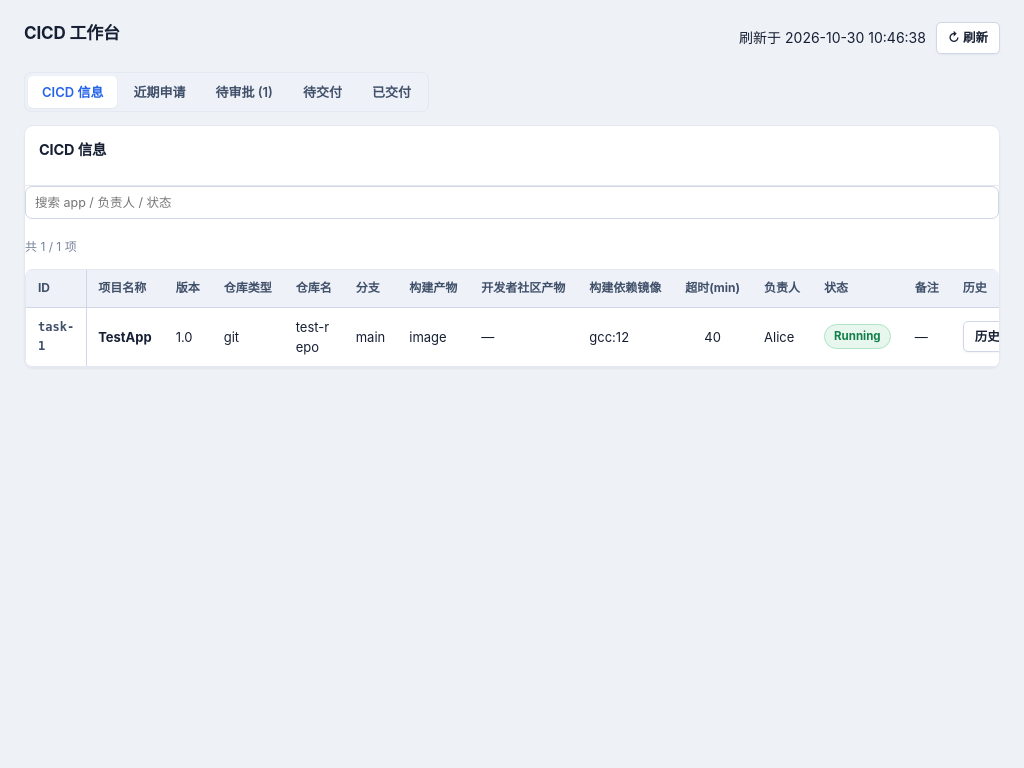
CicdPage › ApproveDialog: hides reject for release decision stop sync request
Click the button "待审批 (1)" at (244, 92), box [201,76,287,108]
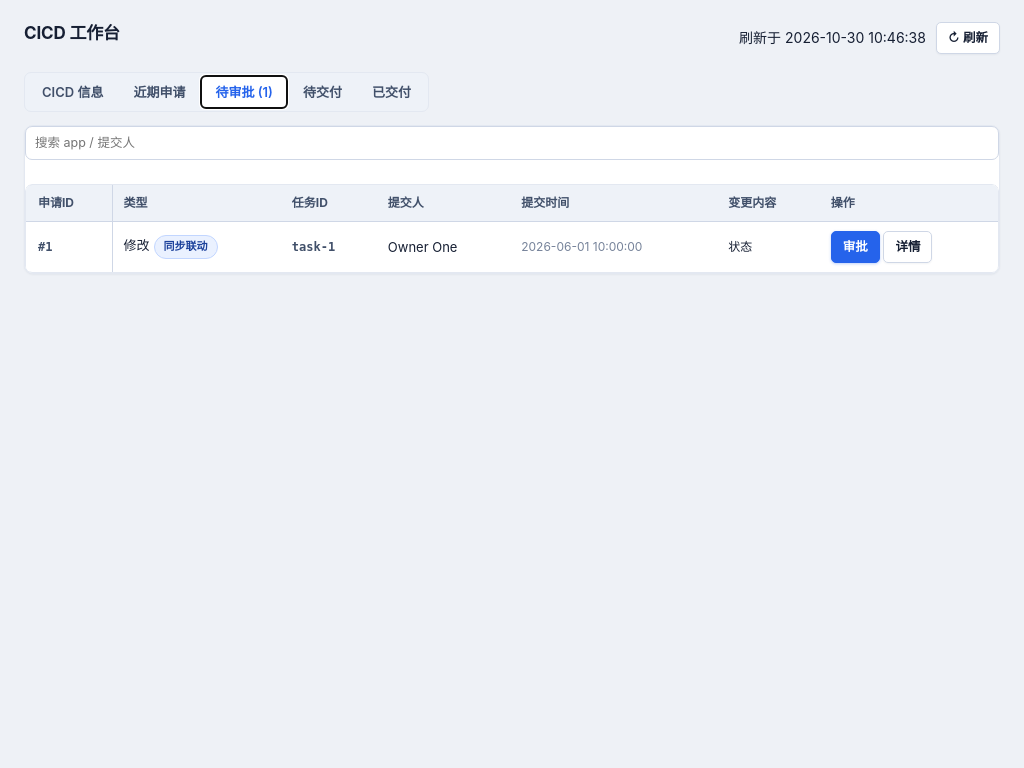
Expected: the button "取消" is not shown
Expected: the button "审批" is shown
Click the button "审批" at (855, 247), box [831,232,880,263]
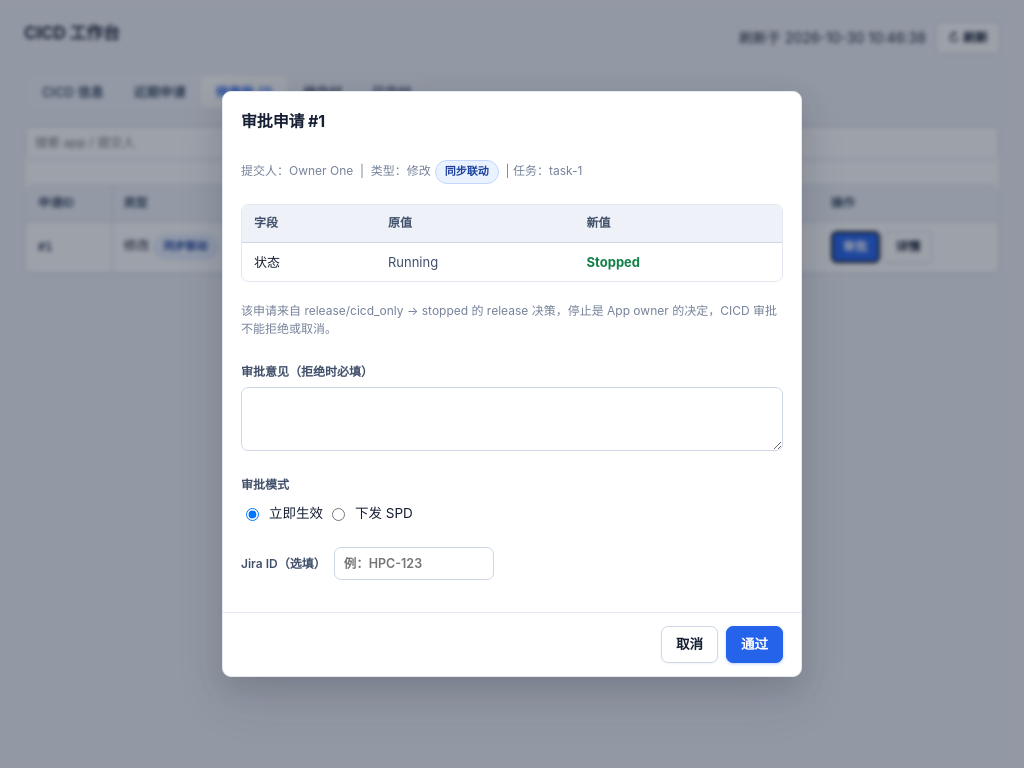
Expected: the text "CICD 审批不能拒绝" is shown, [241,303,777,336]
Expected: the button "通过" is shown, [726,626,783,663]
